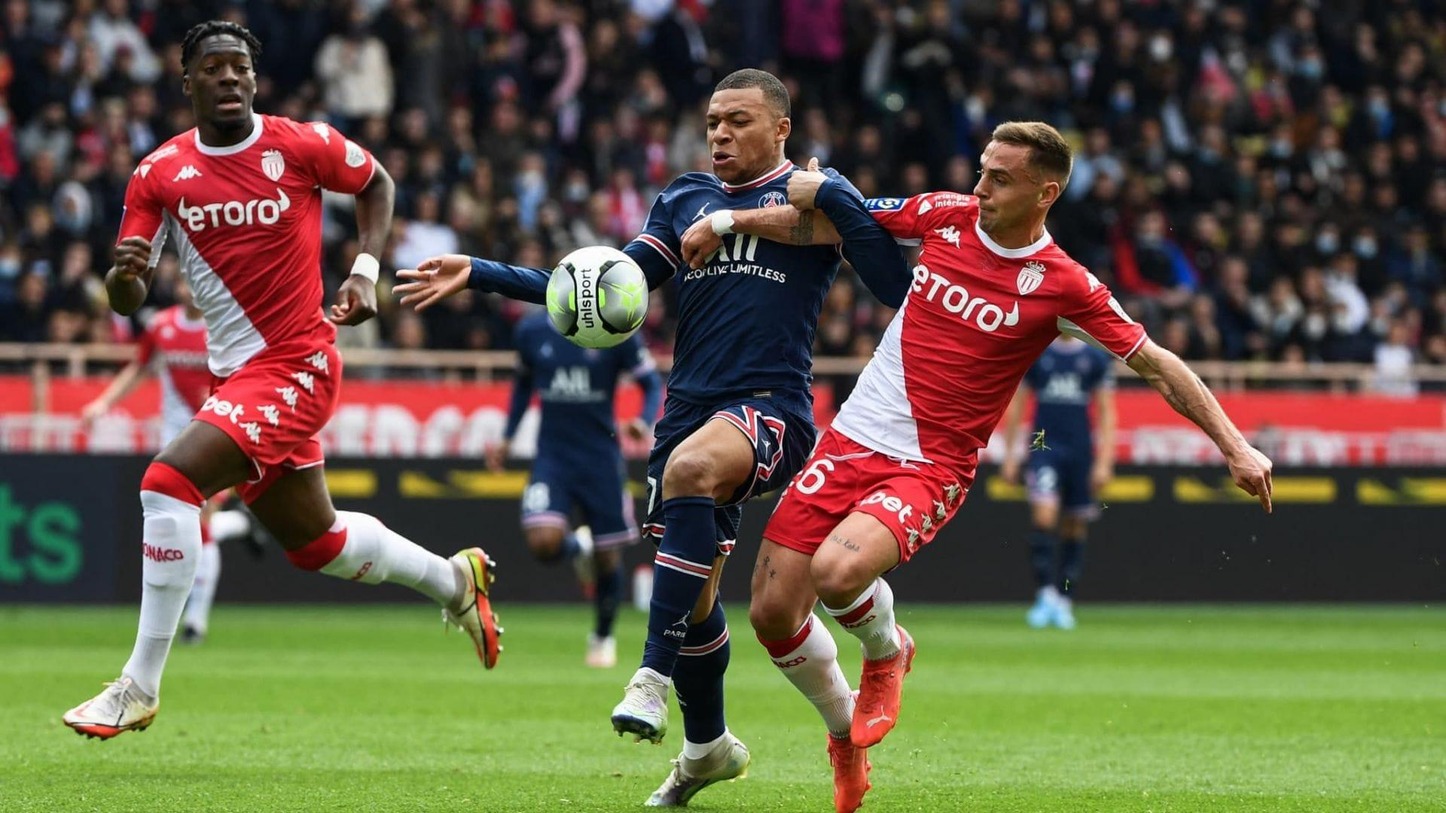ballon_football: (545, 245, 649, 350)
